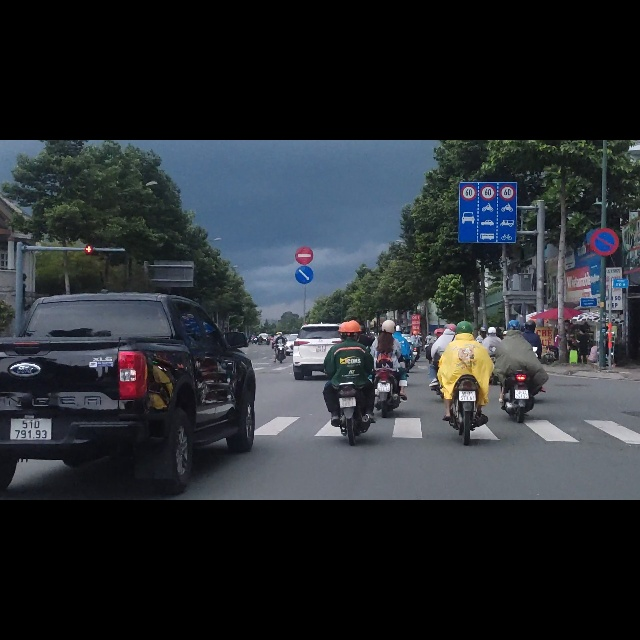bien_chi_dan: (458, 74, 518, 183), (590, 156, 620, 207), (294, 223, 314, 257), (294, 188, 314, 222)
